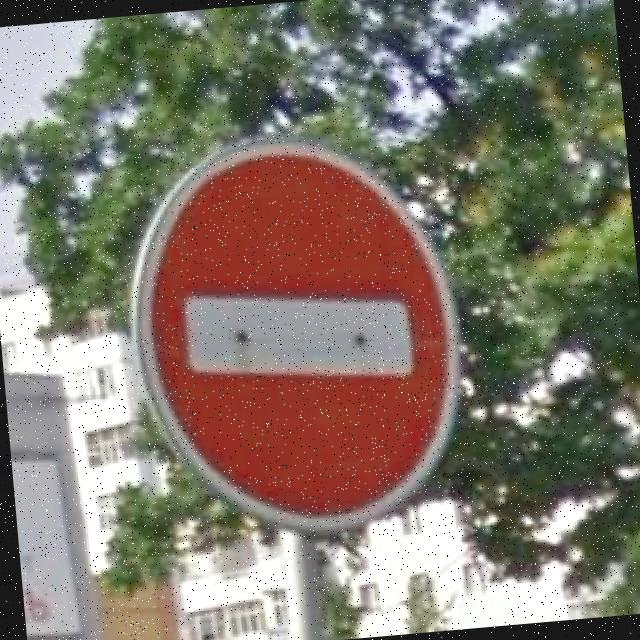Zakaz wjazdu: (117, 116, 474, 552)
